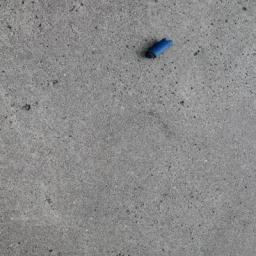FOD: (141, 36, 178, 61)
